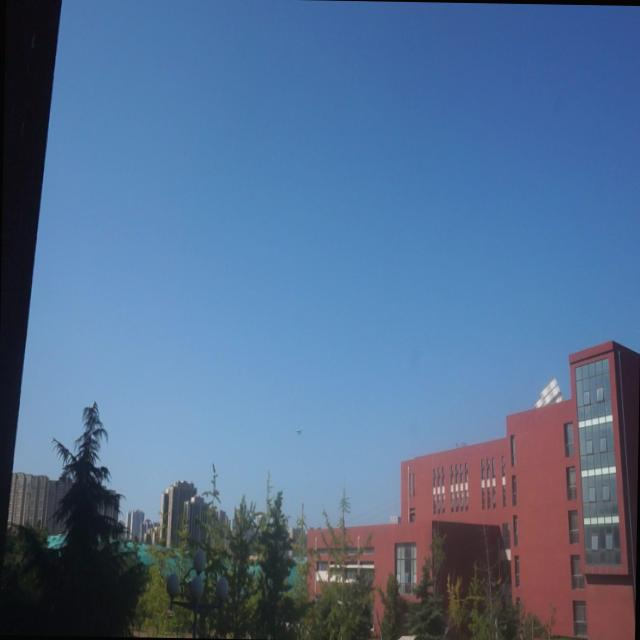drone: (294, 422, 304, 443)
